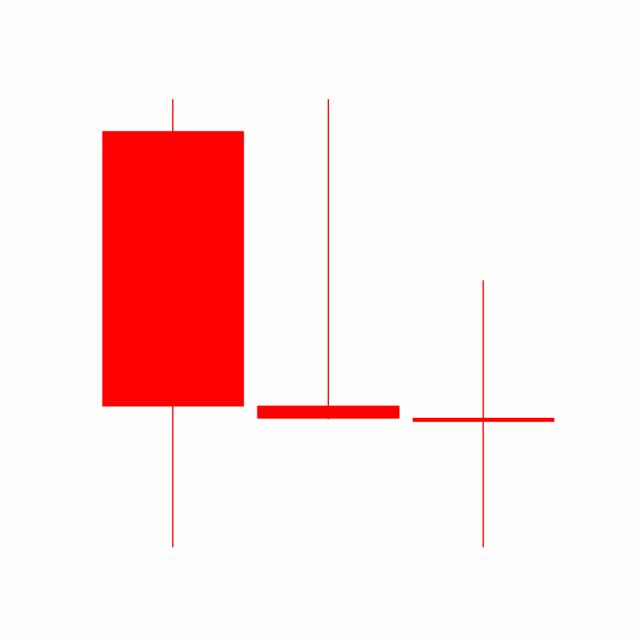Gravestone Doji: (249, 95, 406, 423)
